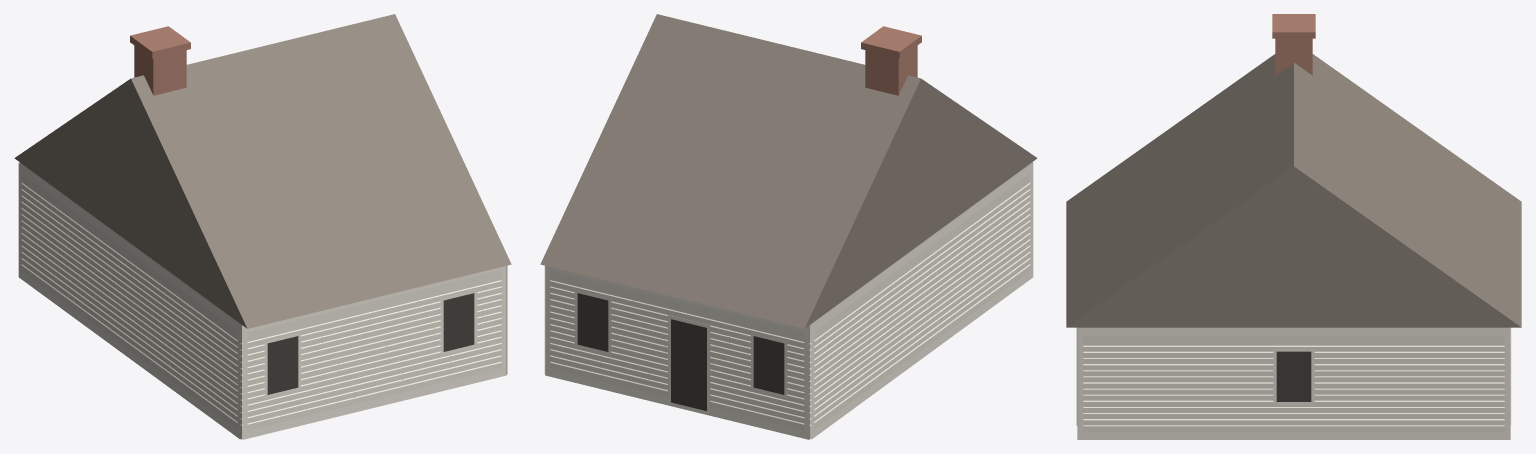
File: recon_1835_west_018__inferred_1835.glb
3 views of the same model, side by side, from view 1: azimuth 30°, elevation 25°; view 2: azimuth 150°, elevation 25°; view 3: azimuth 270°, elevation 25° (orthographic). The views are drawn at different scales.
Visible parts, largest first — view 1: recon_1835_west_018__inferred_1835; view 2: recon_1835_west_018__inferred_1835; view 3: recon_1835_west_018__inferred_1835.
Boxes of the visible parts, x1,y1,x2,y2 form: recon_1835_west_018__inferred_1835: [14, 14, 511, 439]; recon_1835_west_018__inferred_1835: [540, 14, 1037, 439]; recon_1835_west_018__inferred_1835: [1066, 14, 1521, 439].
Bounding box in the file's own units: 6.79 × 7.57 × 10.25.
